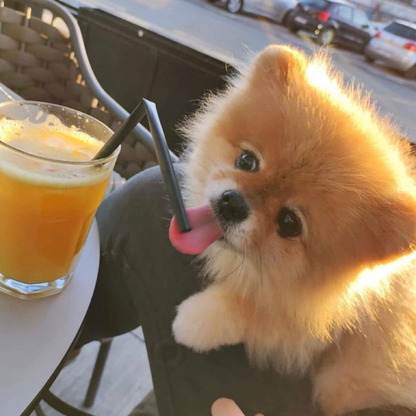Pomeranian: (176, 34, 404, 386)
